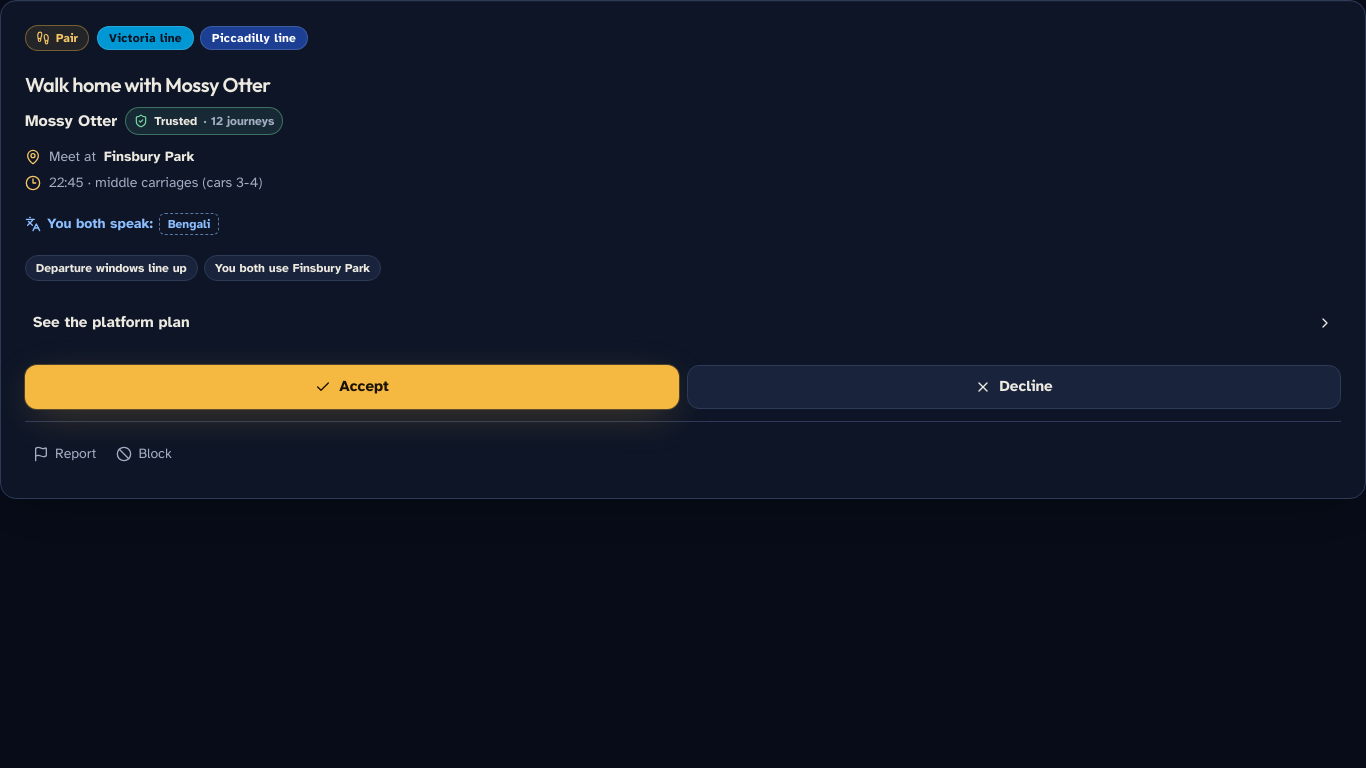
Test case: <MatchCard> accept flow › shows a friendly error and lets the student retry when the request fails
The image size is (1366, 768).
Click the button "Accept" at {"x": 352, "y": 386}, box [25, 364, 679, 408]
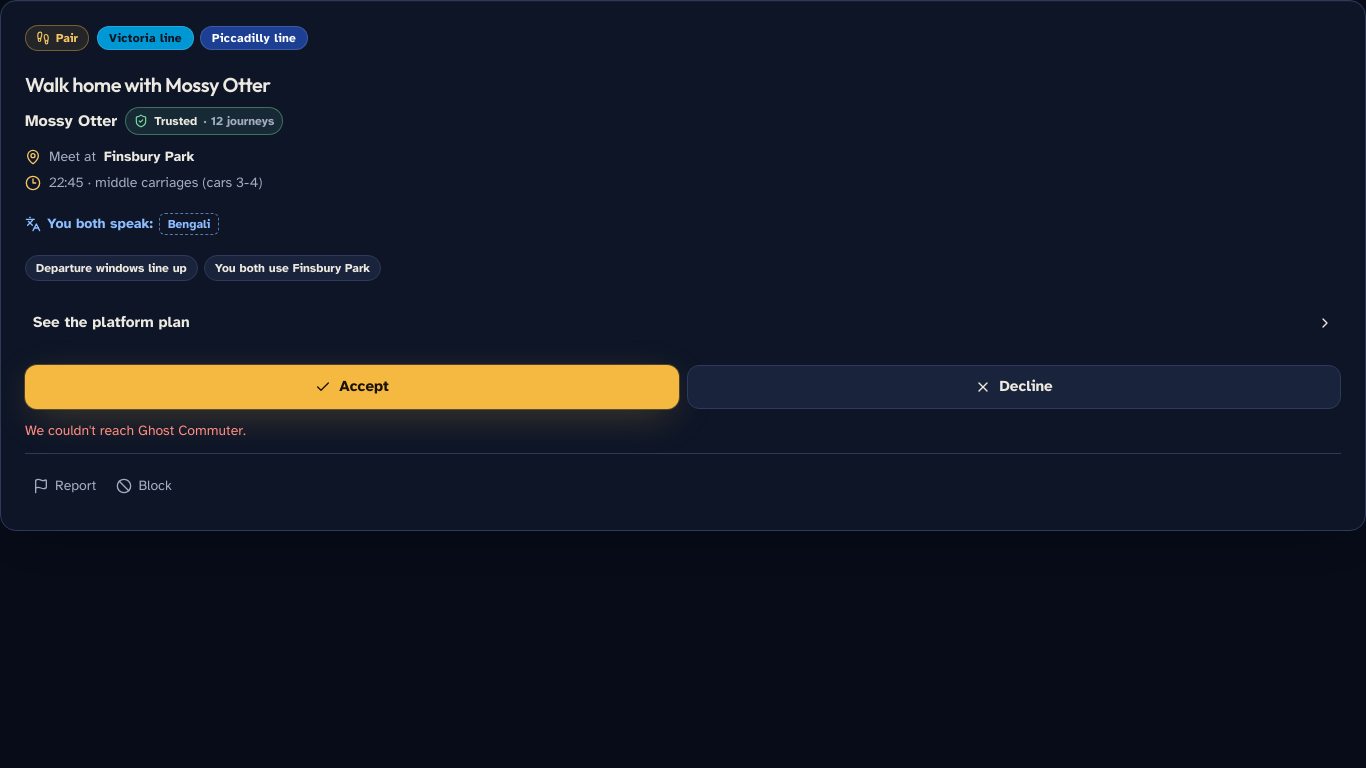
Now the message reads "We couldn't reach Ghost Commuter.", box [25, 422, 246, 438]
Click the button "Accept" at {"x": 352, "y": 386}, box [25, 364, 679, 408]
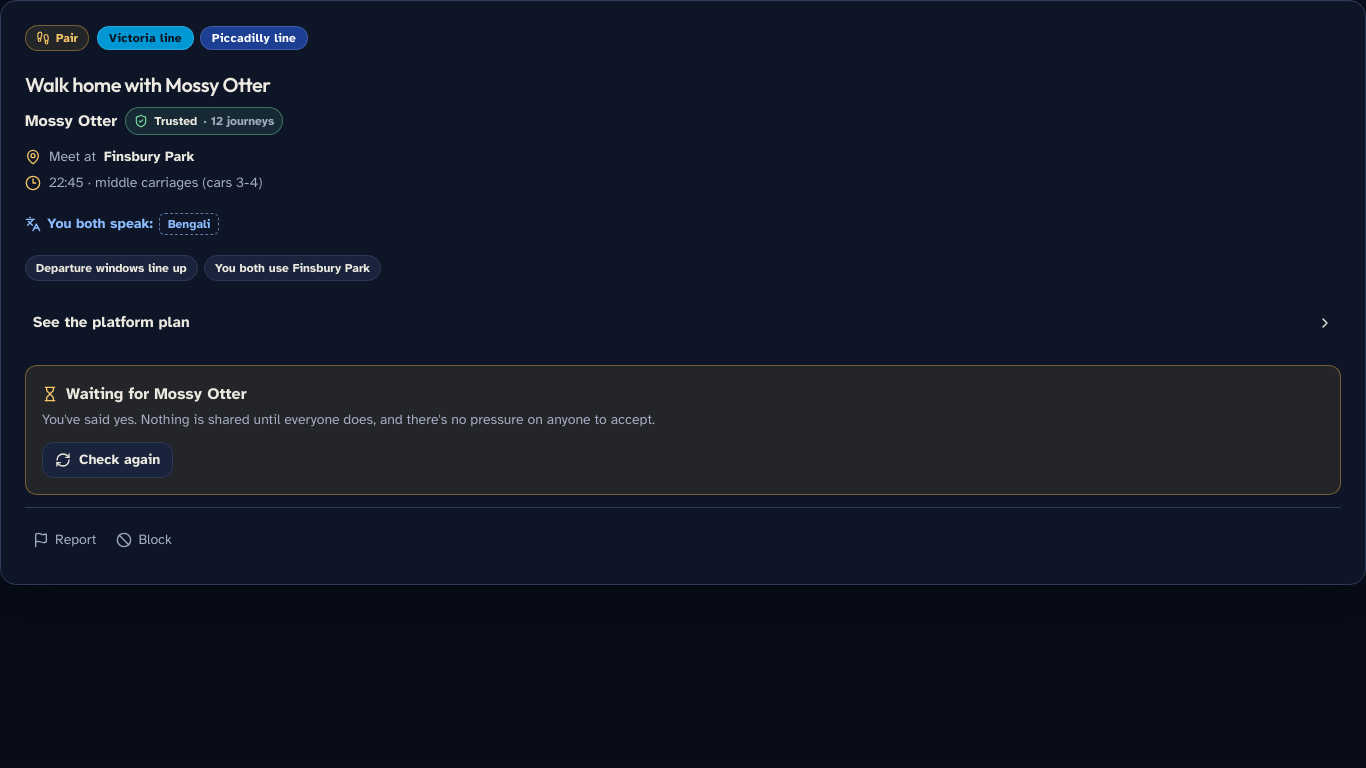
Now the text "Waiting for Mossy Otter" is shown, box [42, 384, 247, 404]
